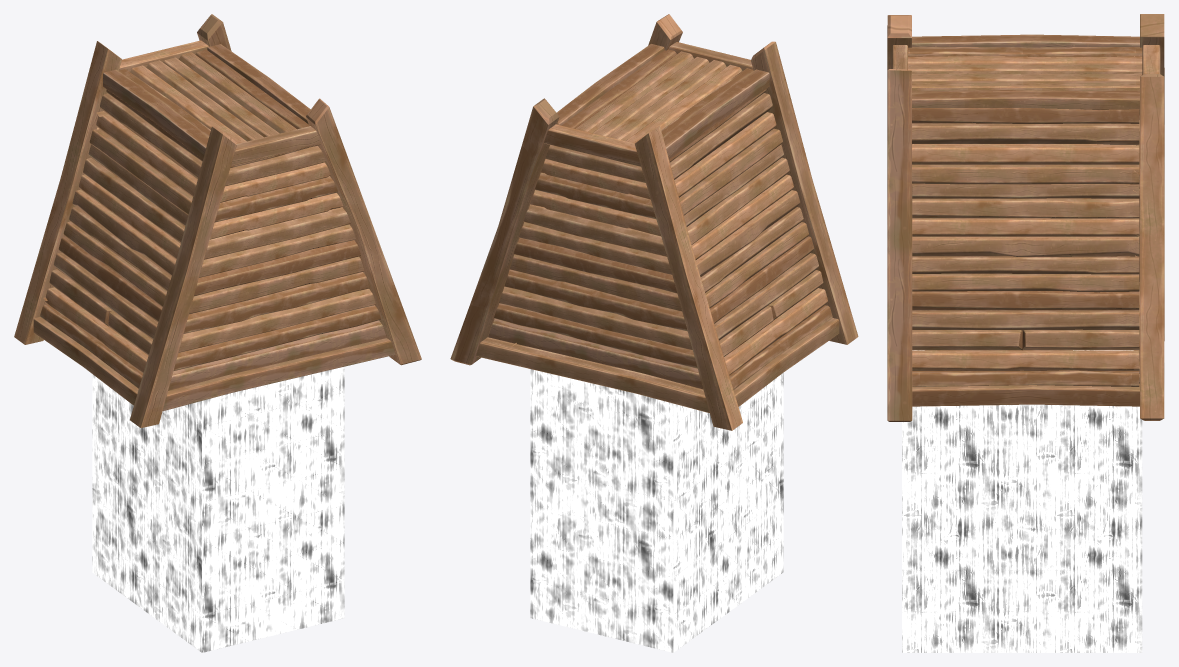
File: SM_BuildingBase_07.fbx
The picture shows the model from 3 angles, left to right: view 1: azimuth 30°, elevation 25°; view 2: azimuth 150°, elevation 25°; view 3: azimuth 270°, elevation 25°; orthographic projection. The views are drawn at different scales.
Visible parts, largest first — view 1: SM_BuildingBase_07_LOD0; view 2: SM_BuildingBase_07_LOD0; view 3: SM_BuildingBase_07_LOD0.
Boxes of the visible parts, x1,y1,x2,y2 form: SM_BuildingBase_07_LOD0: (14, 14, 421, 652); SM_BuildingBase_07_LOD0: (450, 14, 858, 652); SM_BuildingBase_07_LOD0: (887, 14, 1164, 652).
Size of the model in its own units: 593 by 461 by 1050.
Materials: 3 (3 with a texture image).
